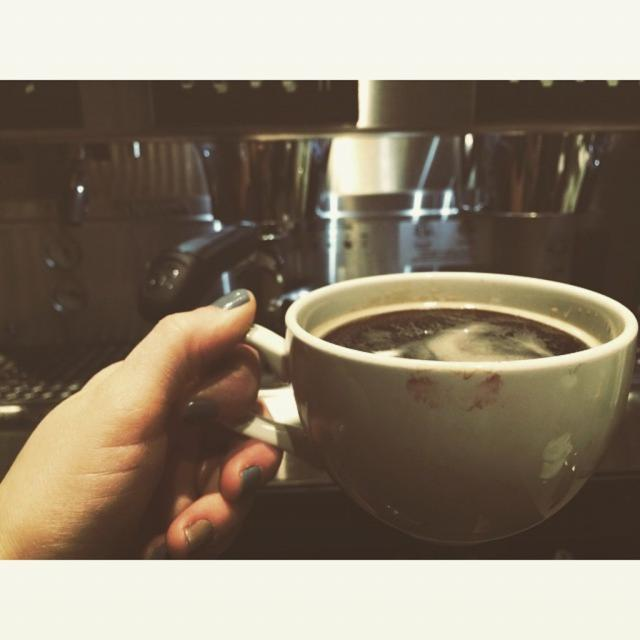Coffee: (318, 303, 603, 366)
Tea: (311, 303, 603, 360)
